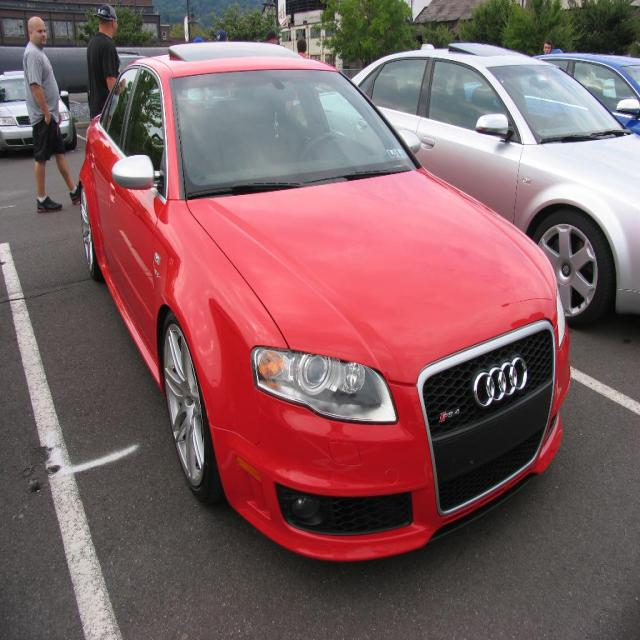Passenger Car: (76, 45, 571, 563), (377, 9, 636, 313)
Pedestrians: (24, 10, 77, 228)
